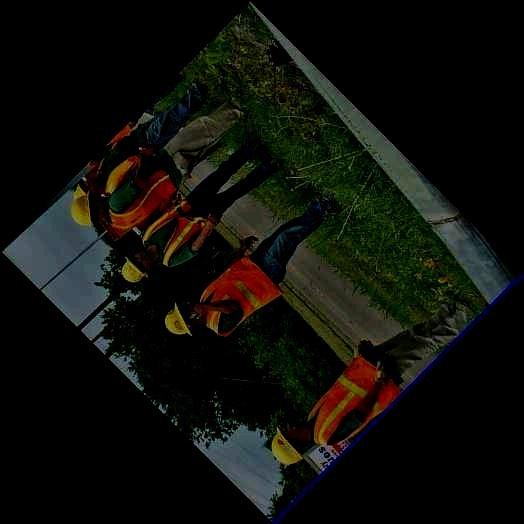helmet: (271, 422, 314, 465), (69, 191, 108, 229), (164, 302, 202, 336), (121, 250, 155, 283), (71, 174, 98, 198)
